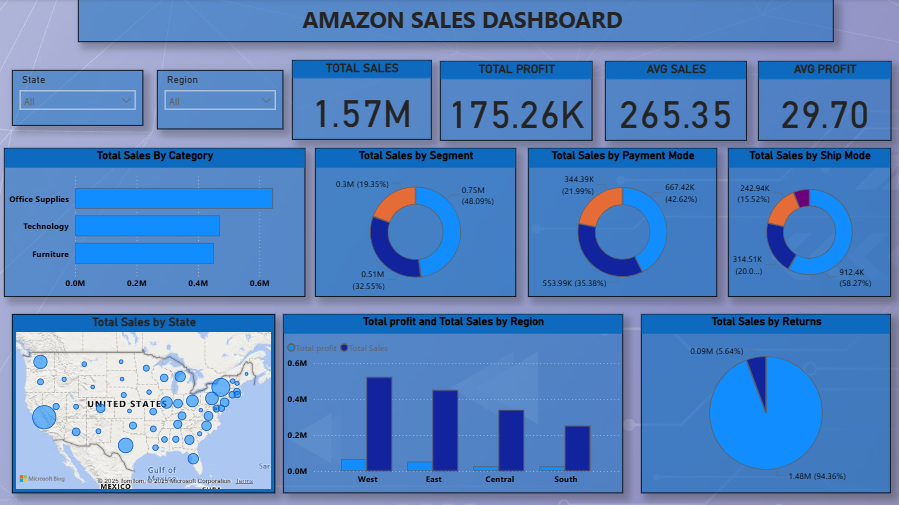

What the dashboard file says about the page in this screenshot:
{"tool":"powerbi","page":{"name":"DASHBOARD","canvas":[1280,720],"ordinal":0},"visuals":[{"type":"clusteredBarChart","title":"Total Sales By Category","fields":{"Category":["Amazon Store Sales.Category"],"Y":["Key Measure.Total Sales"]},"box":[9.9,211.2,426.6,211.2],"z":0},{"type":"textbox","box":[0,0,1280,60.8],"z":1000},{"type":"slicer","fields":{"Values":["Amazon Store Sales.State"]},"box":[22,101.3,185.8,79.4],"z":2000},{"type":"slicer","fields":{"Values":["Amazon Store Sales.Region"]},"box":[226.3,101.3,179,84.4],"z":3000},{"type":"card","title":"TOTAL SALES","fields":{"Values":["Key Measure.Total Sales"]},"box":[418.8,86.1,197.6,113.1],"z":4000},{"type":"card","title":"TOTAL PROFIT","fields":{"Values":["Key Measure.Total profit"]},"box":[628.2,87.8,216.1,113.1],"z":5000},{"type":"card","title":"AVG PROFIT","fields":{"Values":["Key Measure.Avg Profit"]},"box":[1079.1,87.8,189.1,113.1],"z":6000},{"type":"card","title":"AVG SALES","fields":{"Values":["Key Measure.Avg sales"]},"box":[861.2,87.8,200.9,113.1],"z":7000},{"type":"map","fields":{"Size":["Key Measure.Total Sales"],"Category":["Amazon Store Sales.State"]},"box":[21.3,446.5,372.8,253.7],"z":8000},{"type":"donutChart","fields":{"Category":["Amazon Store Sales.Segment"],"Y":["Key Measure.Total Sales"]},"box":[450.7,211.2,284.9,211.2],"z":8001},{"type":"clusteredColumnChart","fields":{"Y":["Key Measure.Total profit","Key Measure.Total Sales"],"Category":["Amazon Store Sales.Region"]},"box":[405.4,446.5,481.9,253.7],"z":8002},{"type":"donutChart","fields":{"Category":["Amazon Store Sales.Payment Mode"],"Y":["Key Measure.Total Sales"]},"box":[752.6,211.2,267.9,211.2],"z":8003},{"type":"donutChart","fields":{"Category":["Amazon Store Sales.Ship Mode"],"Y":["Key Measure.Total Sales"]},"box":[1036.1,211.2,231,211.2],"z":8004},{"type":"pieChart","fields":{"Y":["Key Measure.Total Sales"],"Category":["Amazon Store Sales.Returns"]},"box":[912.8,446.5,354.3,253.7],"z":8005}]}

Visuals, with their boxes in screenshot pixels (x1, y1, x2, y2), scaled from the page's 1280x720 canvas onto the 899x505 screenshot:
"Total Sales By Category" clusteredBarChart: 7, 148, 307, 296
textbox: 0, 0, 898, 43
slicer - Amazon Store Sales.State: 15, 71, 146, 127
slicer - Amazon Store Sales.Region: 159, 71, 285, 130
"TOTAL SALES" card: 294, 60, 433, 140
"TOTAL PROFIT" card: 441, 62, 593, 141
"AVG PROFIT" card: 758, 62, 891, 141
"AVG SALES" card: 605, 62, 746, 141
map - Key Measure.Total Sales x Amazon Store Sales.State: 15, 313, 277, 491
donutChart - Amazon Store Sales.Segment x Key Measure.Total Sales: 317, 148, 517, 296
clusteredColumnChart - Key Measure.Total profit x Key Measure.Total Sales: 285, 313, 623, 491
donutChart - Amazon Store Sales.Payment Mode x Key Measure.Total Sales: 529, 148, 717, 296
donutChart - Amazon Store Sales.Ship Mode x Key Measure.Total Sales: 728, 148, 890, 296
pieChart - Key Measure.Total Sales x Amazon Store Sales.Returns: 641, 313, 890, 491
